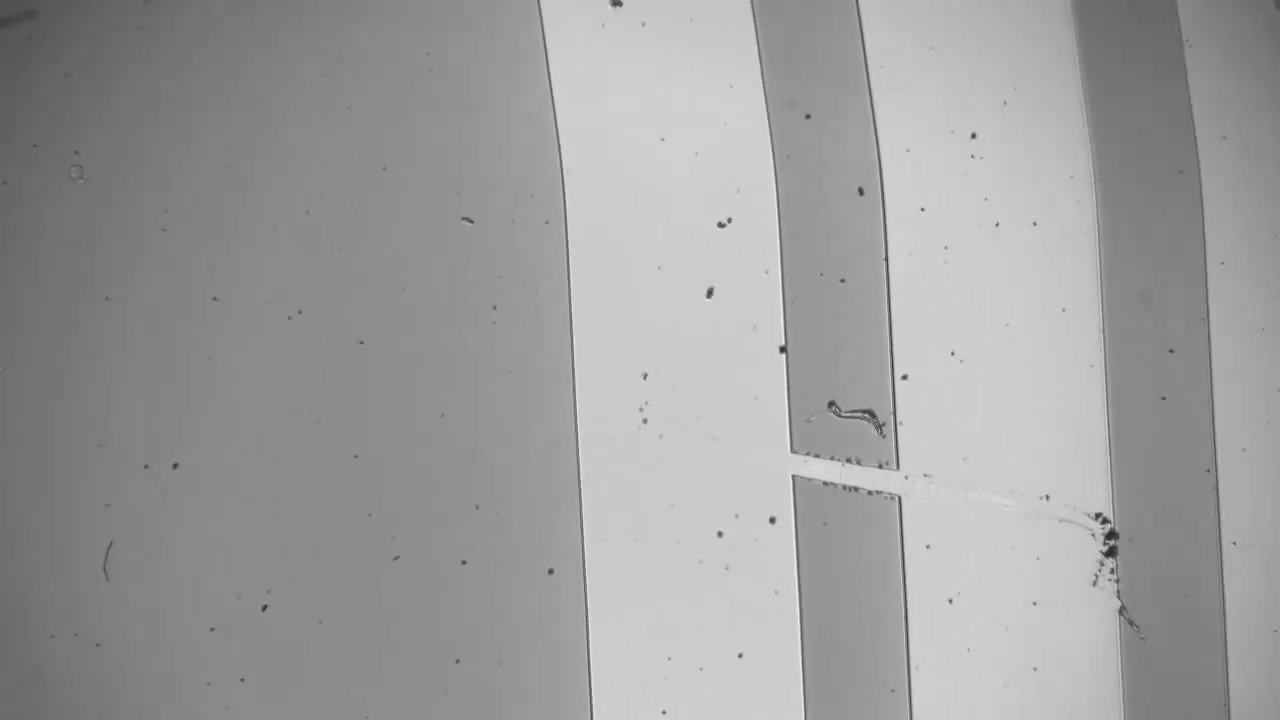Short_circuit: (770, 432, 919, 515)
